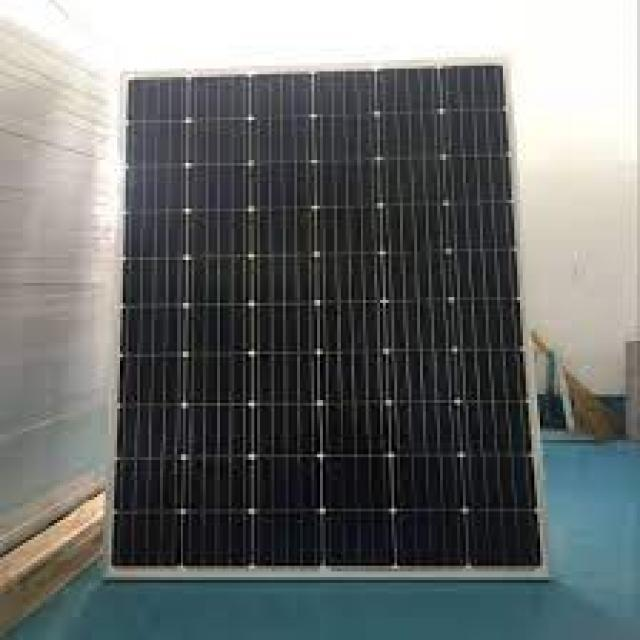no faulty: (105, 65, 549, 577)
